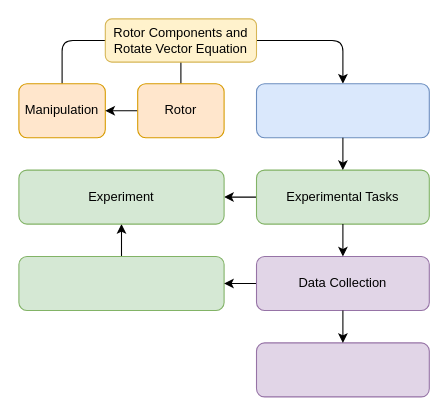
The diagram is 448 pixels wide and 416 high, and some of its shapes have lost their labels. The centre of each missing label's shape, as x and y in pixels:
"Data Analysis" belongs at point (342, 369).
"Participant Performance Metrics" belongs at point (121, 282).
"Renderer and Shapes" belongs at point (342, 110).
